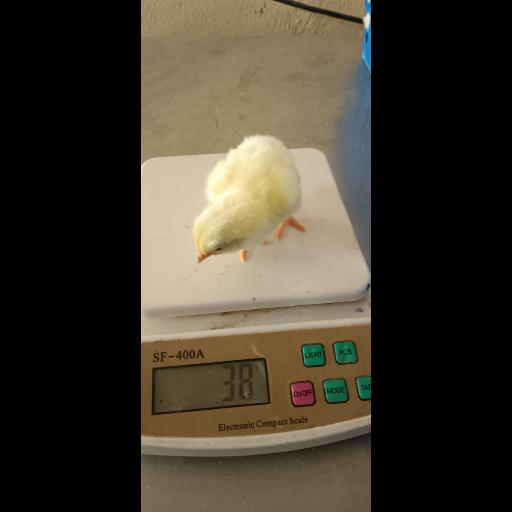chick: (194, 133, 308, 264)
